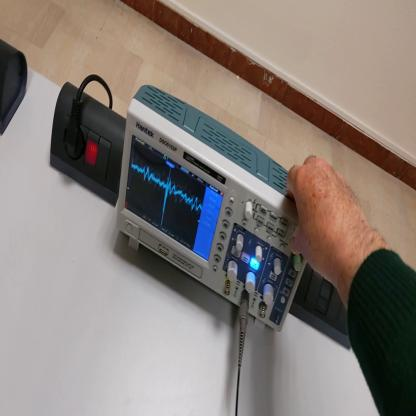hand: (284, 156, 367, 289)
oscilloscope: (116, 86, 306, 334)
socket: (50, 85, 128, 207), (1, 39, 30, 141)
